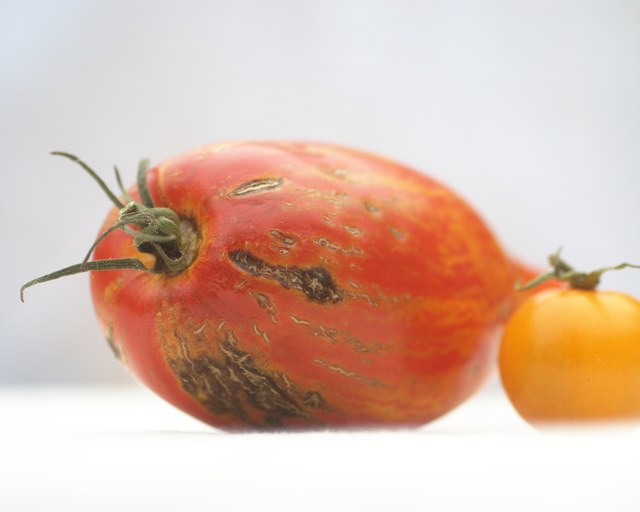tomato: (497, 245, 640, 431)
